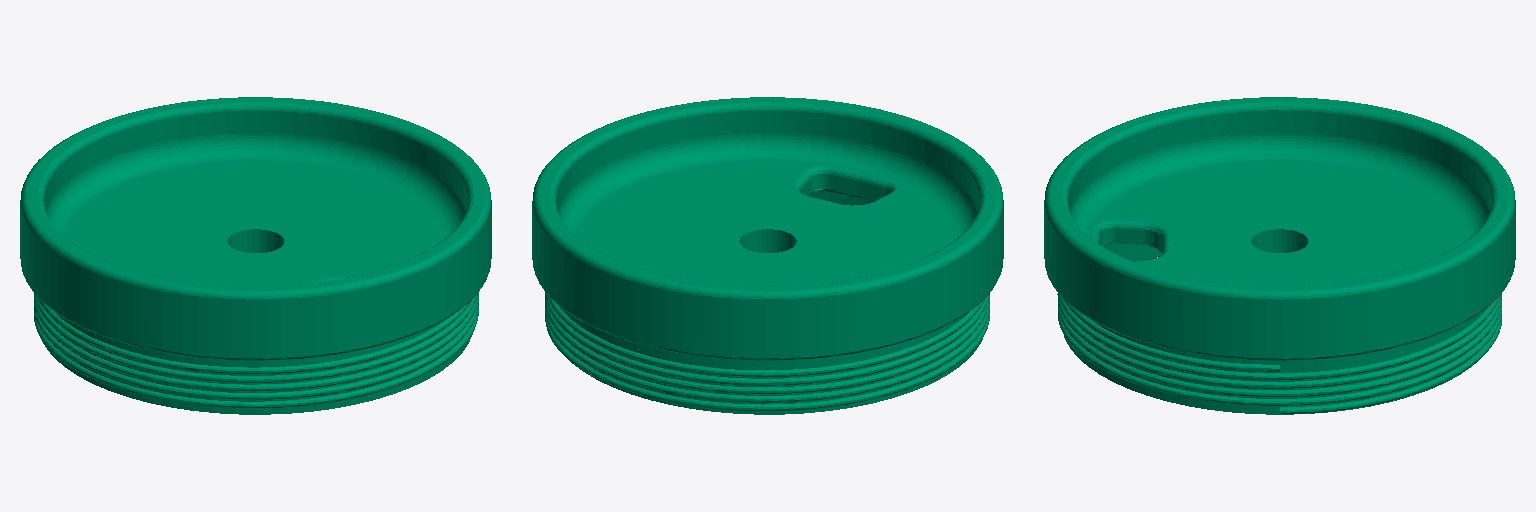
The robot description file, URDF, robot "tumbler":
<?xml version="1.0"?>
<!-- tumbler.urdf 에서 몸체(body) 링크의 visual 제거. 나사 구속과 cap 은 원본 그대로.
     GUI 진단용이며 학습에는 쓰지 않는다. -->
<robot name="tumbler">
  <link name="body">
    <collision>
      <geometry><mesh filename="meshes/body_collision.obj"/></geometry>
    </collision>
    <inertial>
      <mass value="0.3"/>
      <origin xyz="0.020946 0.000643 0.134835"/>
      <inertia ixx="0.00167630" iyy="0.00206606" izz="0.00082941" ixy="0" ixz="0" iyz="0"/>
    </inertial>
  </link>

  <!-- 회전 자유도. 뚜껑을 푸는 방향이 +.
       상한(182도)은 나사 끝(180도)보다 2도 여유를 둔다. 둘을 같게 두면
       PhysX 가 하드 스톱에 정확히 수렴하지 않아 각도가 177~178 에서
       멈추고, 거기 걸린 해제 판정이 영영 성립하지 않는다.
       type 은 반드시 revolute + 유한 limit 이어야 한다. continuous 로 두면 PhysX 가
       "needs a finite limit set to be used by the mimic joint feature" 로 거부한다. -->
  <link name="cap_spinner">
    <inertial>
      <mass value="1e-4"/>
      <inertia ixx="1e-8" iyy="1e-8" izz="1e-8" ixy="0" ixz="0" iyz="0"/>
    </inertial>
  </link>
  <joint name="cap_spin" type="revolute">
    <parent link="body"/>
    <child link="cap_spinner"/>
    <origin xyz="0 0 0.225000"/>
    <axis xyz="0 0 1"/>
    <limit lower="-0.020000" upper="3.176499" effort="50.0" velocity="20.0"/>
    <dynamics damping="0.001" friction="0.0"/>
  </joint>

  <!-- 축방향 자유도. 나사 구간(0~0.01 m)에서는 회전을 따라가고,
       그 뒤 0.12 m 는 뚜껑을 들어내는 자유 행정이다.
       Isaac Gym 은 mimic 을 무시하므로 tools/screw_coupling.py 가 대신 구동한다. -->
  <joint name="cap_lift" type="prismatic">
    <parent link="cap_spinner"/>
    <child link="cap"/>
    <origin xyz="0 0 0"/>
    <axis xyz="0 0 1"/>
    <limit lower="0.0" upper="0.13" effort="100.0" velocity="5.0"/>
    <mimic joint="cap_spin" multiplier="3.18309886e-03" offset="0.0"/>
  </joint>

  <link name="cap">
    <visual>
      <geometry><mesh filename="meshes/cap_visual.obj"/></geometry>
    </visual>
    <collision>
      <geometry><mesh filename="meshes/cap_collision.obj"/></geometry>
    </collision>
    <inertial>
      <mass value="0.05"/>
      <origin xyz="-0.000048 0.000284 0.015506"/>
      <inertia ixx="0.00004334" iyy="0.00004411" izz="0.00008291" ixy="0" ixz="0" iyz="0"/>
    </inertial>
  </link>

  <!-- 매끈한 원통이라 그대로는 미끄럽다. 나사산 대신 마찰로 그립을 만든다. -->
  <gazebo reference="cap"><mu1>2.0</mu1><mu2>2.0</mu2></gazebo>
  <gazebo reference="body"><mu1>2.0</mu1><mu2>2.0</mu2></gazebo>
</robot>

--- Facts derived from the render (not from the file) ---
3 views of the same robot in one strip: view 1: azimuth 30°, elevation 25°; view 2: azimuth 150°, elevation 25°; view 3: azimuth 270°, elevation 25° (orthographic).
Model tumbler with 3 links and 2 joints (1 revolute, 1 prismatic), rooted at body, posed every joint at zero.
Links seen in each view (by area): view 1: cap; view 2: cap; view 3: cap.
Link boxes in pixels (x1=…): cap: x1=20, y1=97, x2=491, y2=414; cap: x1=532, y1=97, x2=1003, y2=414; cap: x1=1044, y1=97, x2=1515, y2=414.
Bounding box of the posed robot: 0.1 × 0.1 × 0.03 m (x, y, z).
Meshes: 1 distinct files referenced, 1 mesh visuals loaded (1 OBJ).
